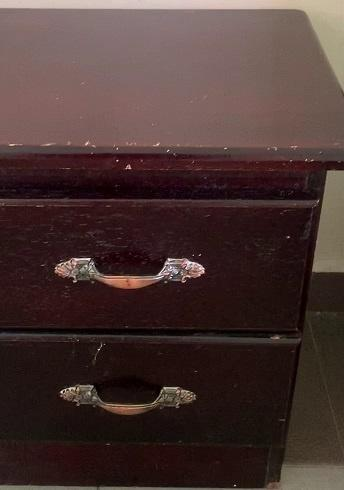cabinet_door: (0, 196, 305, 332), (0, 332, 299, 444), (0, 445, 280, 488)
handle: (51, 250, 207, 296), (56, 378, 198, 425)
